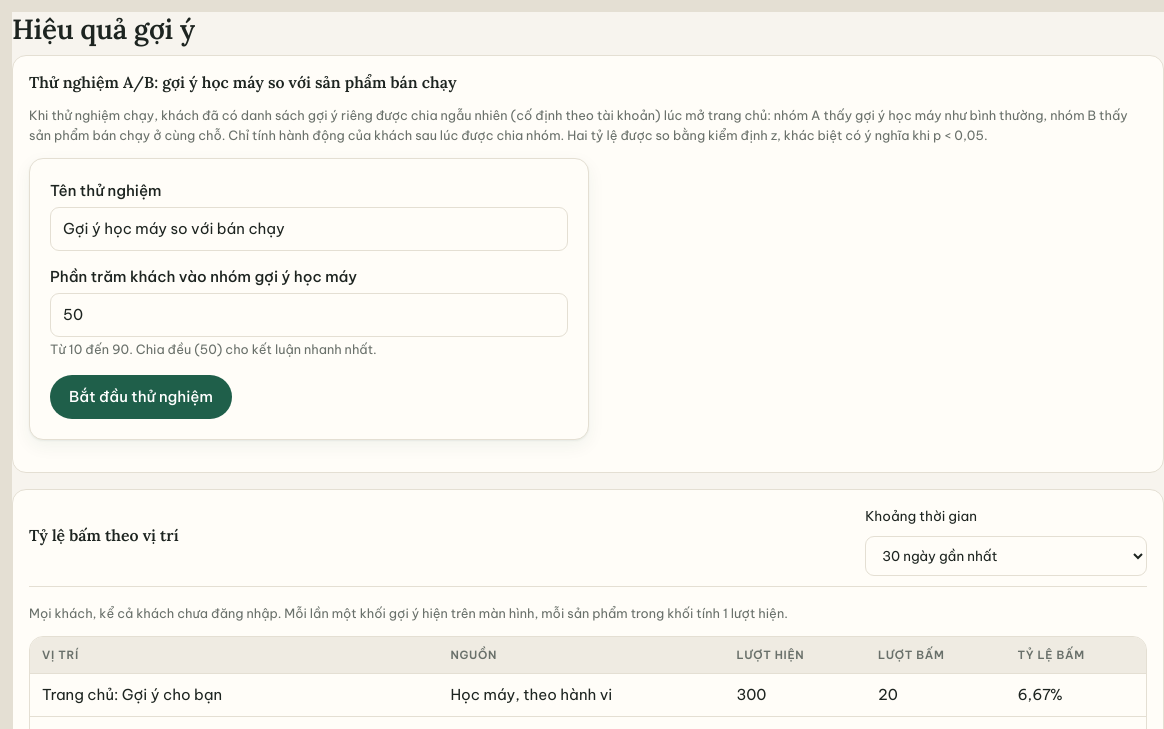
RecommendationStatsPage › chưa có thử nghiệm chạy thì bắt đầu thử nghiệm mới
Replace the text in the field labelled "Tên thử nghiệm" with "Thử 70/30": (309, 229) [50,207,568,251]
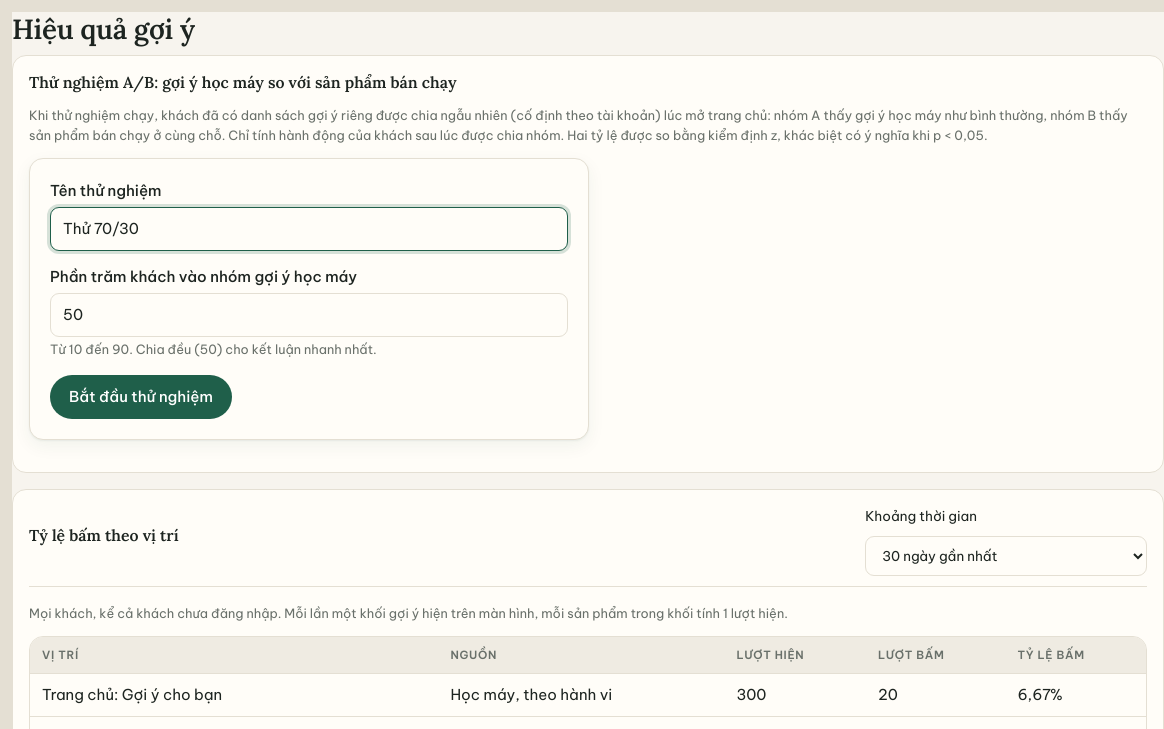
Replace the text in the number field labelled "Phần trăm khách vào nhóm gợi ý học máy" with "70": (309, 315) [50,293,568,337]
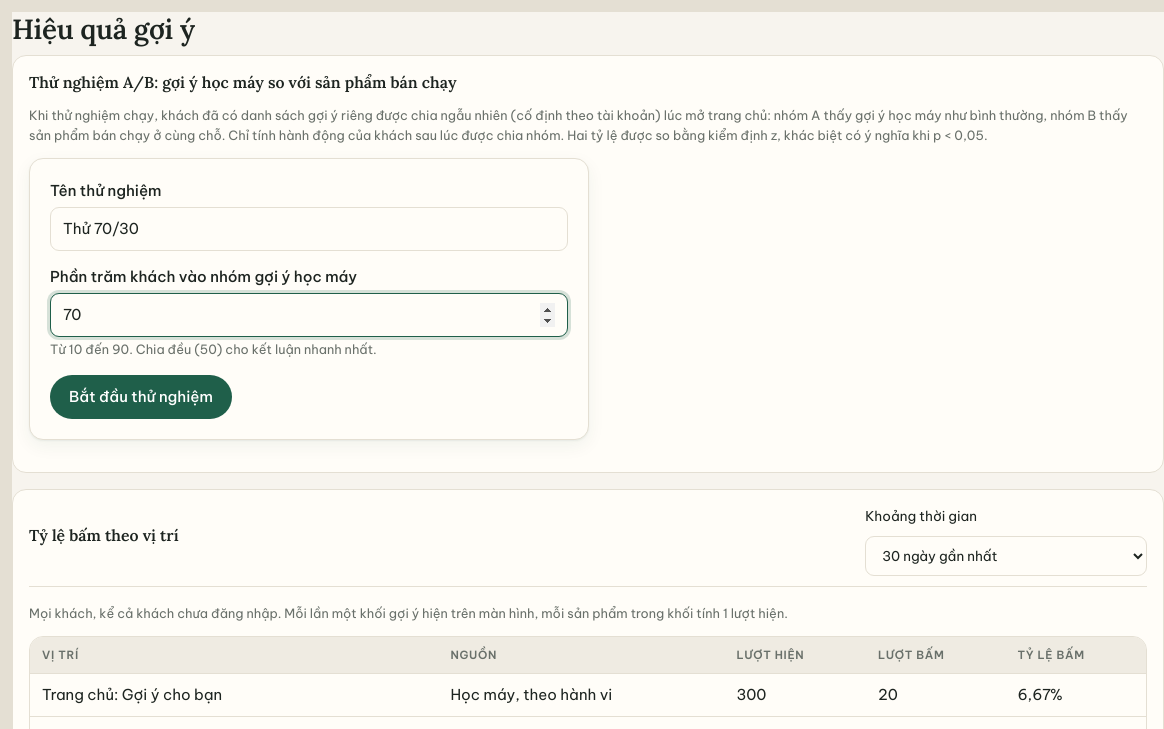
Click the button "Bắt đầu thử nghiệm": click(141, 397) [50,375,232,419]
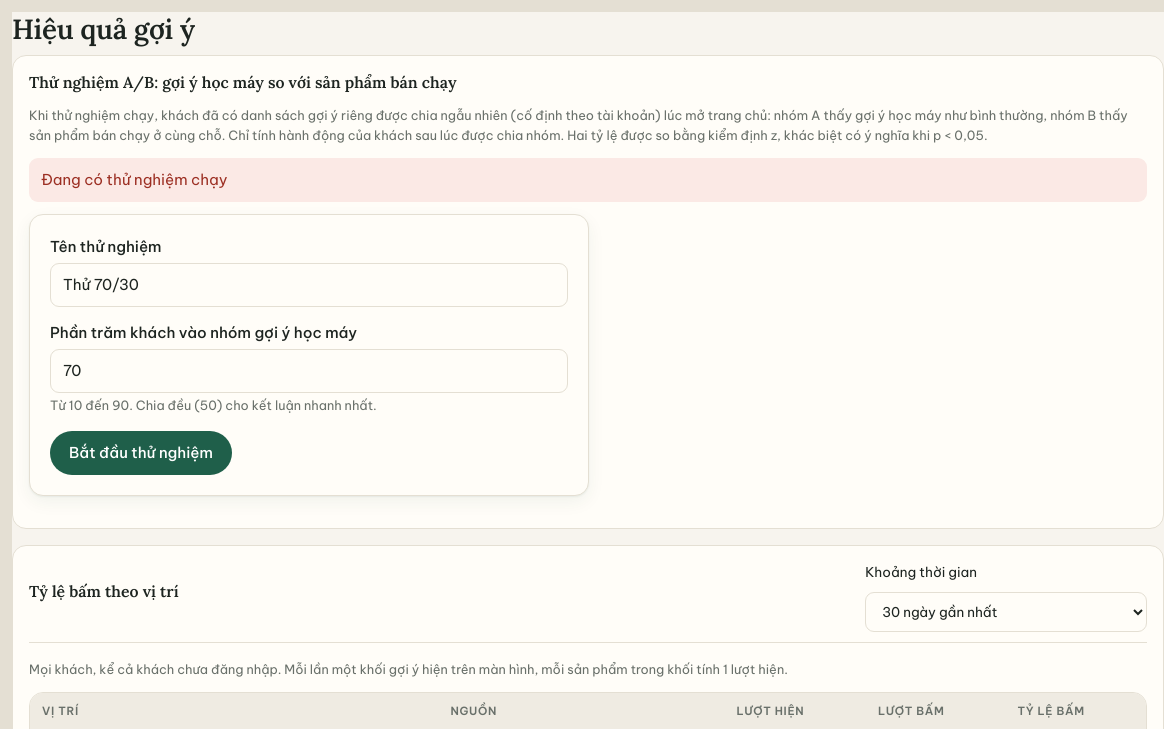
Result: the message reads "Đang có thử nghiệm chạy" at [41,170,228,189]
Click the button "Bắt đầu thử nghiệm": click(141, 453) [50,431,232,475]
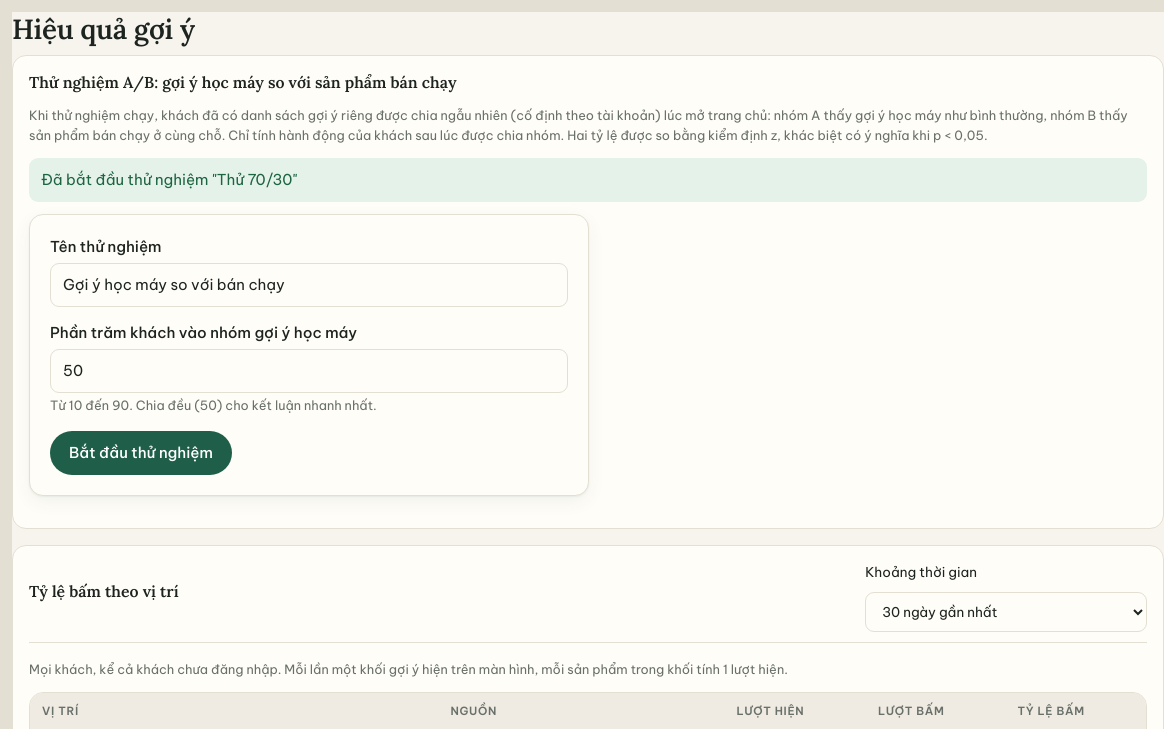
Result: the message reads "Đã bắt đầu thử nghiệm \"Thử 70/30\"" at [41,170,297,189]
